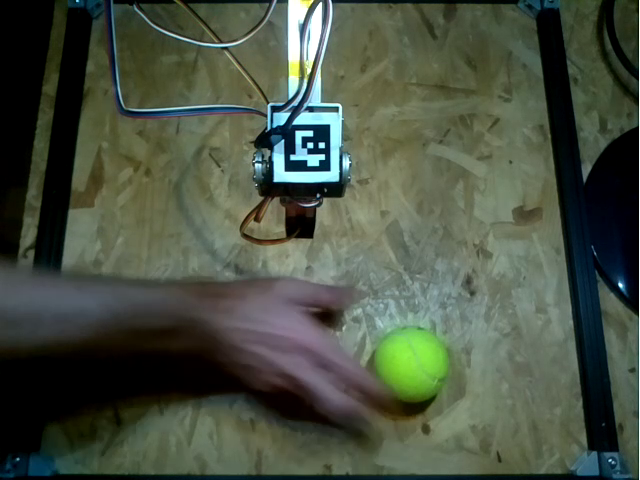tennis_ball: (371, 329, 450, 404)
